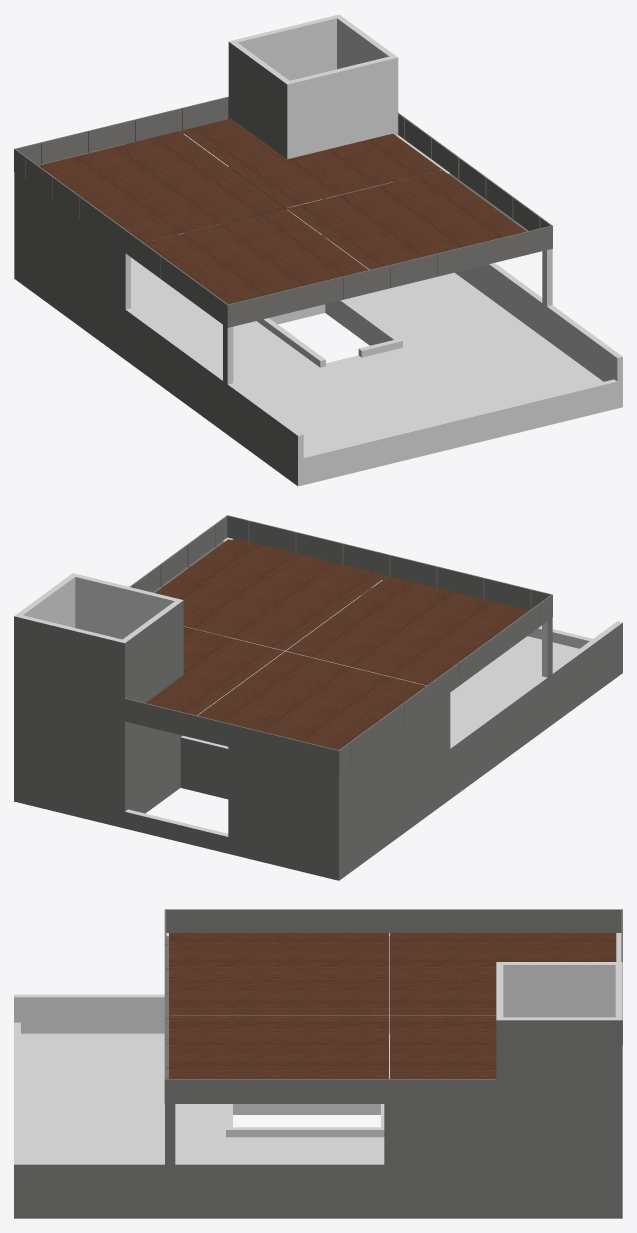
The model's file is cobertura-do-predio.glb.
3 renders of one model, top to bottom at view 1: azimuth 30°, elevation 25°; view 2: azimuth 150°, elevation 25°; view 3: azimuth 270°, elevation 25°, orthographic. The views are drawn at different scales.
Visible parts, largest first — view 1: PONTO_COMERCIAL#01, Forro de ACM#5 (×7), Forro de ACM#1 (×5), TESTEIRA DE ACM#9 (×6), TESTEIRA DE ACM#7 (×6), Forro de ACM#6, TESTEIRA DE ACM#4 (×4), Forro de ACM#2, Forro de ACM#4, Forro de ACM#3, TESTEIRA DE ACM#6 (×2), TESTEIRA DE ACM#3 (+2 smaller); view 2: PONTO_COMERCIAL#01, Forro de ACM#5 (×7), Forro de ACM#1 (×5), TESTEIRA DE ACM#9 (×6), TESTEIRA DE ACM#7 (×6), TESTEIRA DE ACM#4 (×4), Forro de ACM#6, Forro de ACM#2, TESTEIRA DE ACM#8 (×2), TESTEIRA DE ACM#3, TESTEIRA DE ACM#1, TESTEIRA DE ACM#5 (+1 smaller); view 3: PONTO_COMERCIAL#01, Forro de ACM#5 (×7), Forro de ACM#1 (×5), TESTEIRA DE ACM#7 (×6), TESTEIRA DE ACM#4 (×4), TESTEIRA DE ACM#6 (×2), Forro de ACM#2, Forro de ACM#3, TESTEIRA DE ACM#8 (×2), TESTEIRA DE ACM#5, Forro de ACM#6.
Part boxes in pixels (left/top/right/bottom): PONTO_COMERCIAL#01: left=14, top=14, right=622, bottom=486; Forro de ACM#5 (×7): left=144, top=179, right=487, bottom=304; Forro de ACM#1 (×5): left=38, top=121, right=324, bottom=242; TESTEIRA DE ACM#9 (×6): left=249, top=231, right=530, bottom=322; TESTEIRA DE ACM#7 (×6): left=134, top=108, right=512, bottom=318; Forro de ACM#6: left=404, top=170, right=526, bottom=240; TESTEIRA DE ACM#4 (×4): left=25, top=131, right=107, bottom=238; Forro de ACM#2: left=220, top=118, right=363, bottom=198; Forro de ACM#4: left=354, top=133, right=442, bottom=179; Forro de ACM#3: left=315, top=143, right=402, bottom=188; TESTEIRA DE ACM#6 (×2): left=106, top=137, right=458, bottom=258; TESTEIRA DE ACM#3: left=88, top=119, right=135, bottom=152; PONTO_COMERCIAL#01: left=14, top=537, right=622, bottom=880; Forro de ACM#5 (×7): left=183, top=547, right=529, bottom=685; Forro de ACM#1 (×5): left=158, top=641, right=426, bottom=749; TESTEIRA DE ACM#9 (×6): left=249, top=520, right=530, bottom=609; TESTEIRA DE ACM#7 (×6): left=161, top=524, right=540, bottom=743; TESTEIRA DE ACM#4 (×4): left=265, top=683, right=431, bottom=766; Forro de ACM#6: left=155, top=538, right=269, bottom=609; Forro de ACM#2: left=146, top=632, right=244, bottom=705; TESTEIRA DE ACM#8 (×2): left=215, top=515, right=552, bottom=626; TESTEIRA DE ACM#3: left=218, top=721, right=265, bottom=755; TESTEIRA DE ACM#1: left=124, top=698, right=171, bottom=732; TESTEIRA DE ACM#5: left=312, top=742, right=350, bottom=773; PONTO_COMERCIAL#01: left=14, top=933, right=622, bottom=1218; Forro de ACM#5 (×7): left=169, top=933, right=388, bottom=1076; Forro de ACM#1 (×5): left=390, top=933, right=616, bottom=1035; TESTEIRA DE ACM#7 (×6): left=191, top=909, right=365, bottom=1103; TESTEIRA DE ACM#4 (×4): left=424, top=909, right=598, bottom=1103; TESTEIRA DE ACM#6 (×2): left=366, top=909, right=423, bottom=1103; Forro de ACM#2: left=390, top=1036, right=496, bottom=1056; Forro de ACM#3: left=390, top=1056, right=496, bottom=1076; TESTEIRA DE ACM#8 (×2): left=164, top=909, right=191, bottom=1103; TESTEIRA DE ACM#5: left=599, top=909, right=622, bottom=932; Forro de ACM#6: left=169, top=1077, right=388, bottom=1078.
Size of the model in its own units: 10.12 by 5.5 by 15.28.
3 materials, 3 textured.
